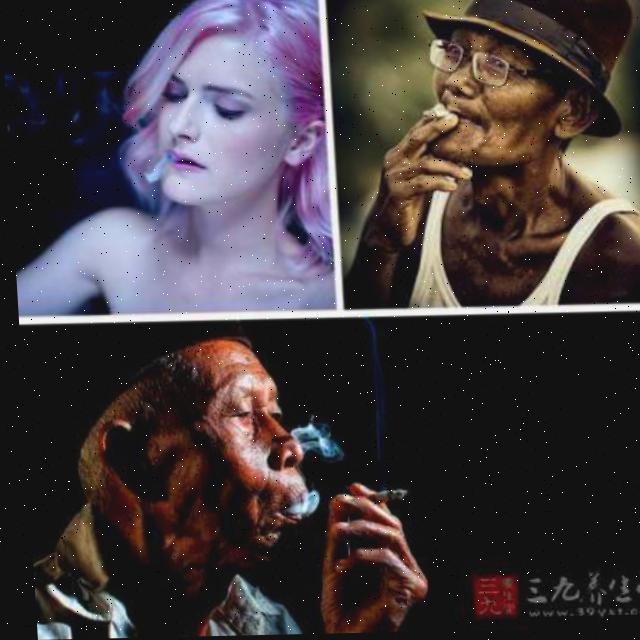cigarette: (360, 487, 403, 511), (419, 110, 452, 121)
